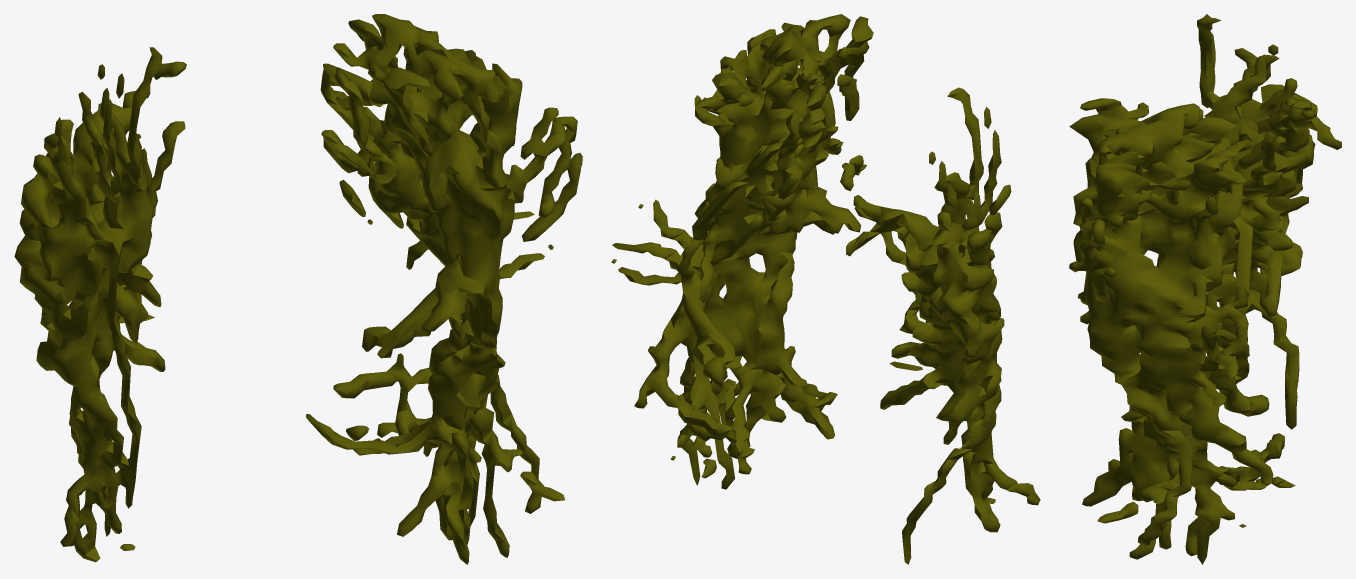
The model's file is Optic_radiation.obj.
3 views of the same model, side by side, from view 1: azimuth 30°, elevation 25°; view 2: azimuth 150°, elevation 25°; view 3: azimuth 270°, elevation 25° (orthographic). The views are drawn at different scales.
Visible parts, largest first — view 1: grp1; view 2: grp1; view 3: grp1.
Boxes of the visible parts, box(x1,y1,x2,y2) form: grp1: box(14, 14, 582, 564); grp1: box(611, 14, 1040, 564); grp1: box(1069, 14, 1341, 564).
Size of the model in its own units: 117 by 123 by 70.69.
